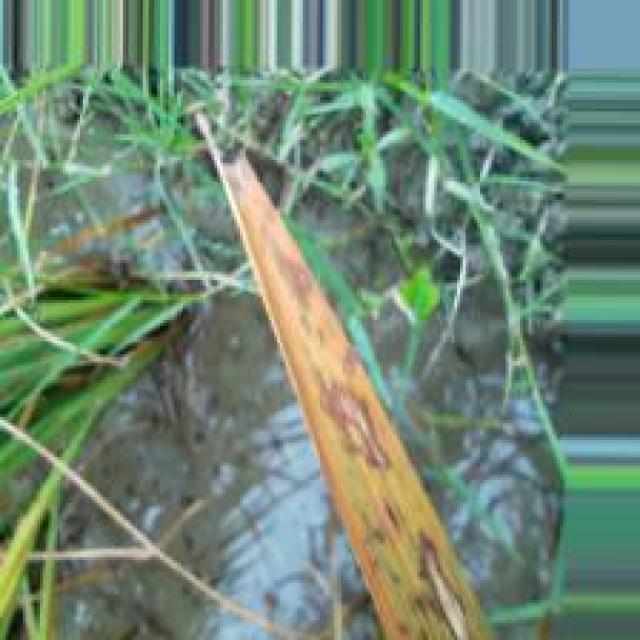Narrow_Brown_Leaf_Spot: (219, 159, 502, 640)
